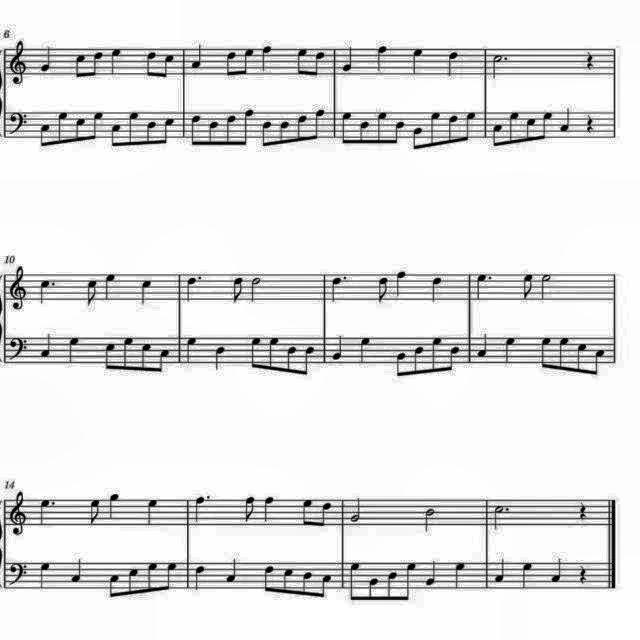Bass-clef: (6, 333, 30, 362), (7, 558, 30, 588), (7, 108, 30, 138)
Eighth-note: (404, 558, 420, 602), (346, 560, 362, 604), (246, 334, 264, 372), (241, 106, 257, 148), (426, 109, 442, 149), (428, 334, 444, 374), (56, 106, 72, 146), (126, 109, 142, 148), (266, 333, 282, 371), (508, 109, 524, 147), (374, 109, 390, 147), (302, 343, 318, 381), (572, 339, 588, 376), (556, 334, 572, 371), (536, 334, 552, 371), (144, 560, 160, 596), (446, 112, 462, 148), (222, 113, 238, 149), (188, 114, 204, 150), (384, 568, 400, 604), (241, 494, 259, 526), (340, 112, 356, 148), (312, 106, 328, 142), (240, 44, 256, 80), (292, 44, 308, 80), (141, 48, 159, 80), (84, 276, 102, 308), (374, 274, 392, 306), (519, 270, 537, 302), (126, 565, 142, 599), (412, 342, 428, 376), (102, 339, 118, 373), (462, 110, 478, 144), (90, 109, 106, 143), (300, 496, 316, 530), (162, 559, 178, 593), (230, 272, 247, 304), (87, 499, 105, 529), (122, 334, 136, 372), (300, 568, 316, 600), (280, 564, 296, 596), (262, 562, 278, 594), (138, 340, 154, 372), (284, 343, 300, 375), (318, 572, 334, 604), (162, 116, 178, 148), (538, 110, 554, 142), (592, 346, 608, 378), (72, 51, 88, 83), (90, 48, 106, 80), (72, 115, 88, 146), (318, 501, 334, 532), (206, 118, 222, 148), (106, 572, 122, 602), (392, 349, 408, 379), (312, 50, 328, 80), (221, 50, 237, 80), (162, 52, 178, 82), (36, 121, 52, 151), (276, 119, 292, 148), (294, 111, 308, 143), (522, 116, 538, 144), (108, 122, 124, 150), (262, 120, 276, 152), (364, 576, 380, 604), (448, 344, 464, 372), (158, 346, 174, 374), (490, 122, 506, 150), (410, 125, 426, 152), (392, 119, 406, 148), (144, 119, 158, 148), (357, 120, 371, 148)
Half-dot: (489, 51, 511, 83), (490, 501, 510, 532)
Half-note: (348, 492, 364, 524), (537, 270, 553, 302), (421, 506, 439, 534), (248, 273, 264, 303)
Quarter-dot: (191, 489, 213, 527), (328, 272, 352, 304), (36, 496, 59, 528), (38, 276, 61, 306), (182, 274, 205, 304), (472, 271, 494, 301)
Quarter-note: (444, 48, 464, 80), (518, 558, 538, 590), (408, 46, 428, 78), (142, 498, 162, 528), (136, 277, 156, 307), (37, 44, 55, 76), (340, 44, 358, 76), (101, 270, 119, 302), (427, 272, 445, 304), (500, 334, 518, 366), (107, 46, 125, 78), (68, 555, 86, 585), (549, 555, 567, 585), (449, 560, 467, 590), (373, 42, 391, 72), (355, 335, 373, 365), (182, 335, 200, 365), (66, 334, 82, 366), (188, 43, 205, 73), (222, 556, 240, 584), (36, 560, 52, 590), (36, 333, 52, 363), (262, 495, 278, 525), (422, 558, 438, 588), (392, 268, 408, 298), (260, 45, 276, 75), (331, 333, 347, 362), (106, 493, 122, 522), (492, 556, 508, 584), (192, 562, 208, 590), (558, 106, 574, 134), (476, 332, 492, 360), (212, 343, 228, 369)
Quarter-rest: (583, 48, 599, 74), (574, 498, 590, 522), (583, 112, 599, 136), (574, 562, 590, 586)
Treble-clef: (7, 491, 30, 541), (6, 39, 28, 90), (7, 264, 29, 312)
